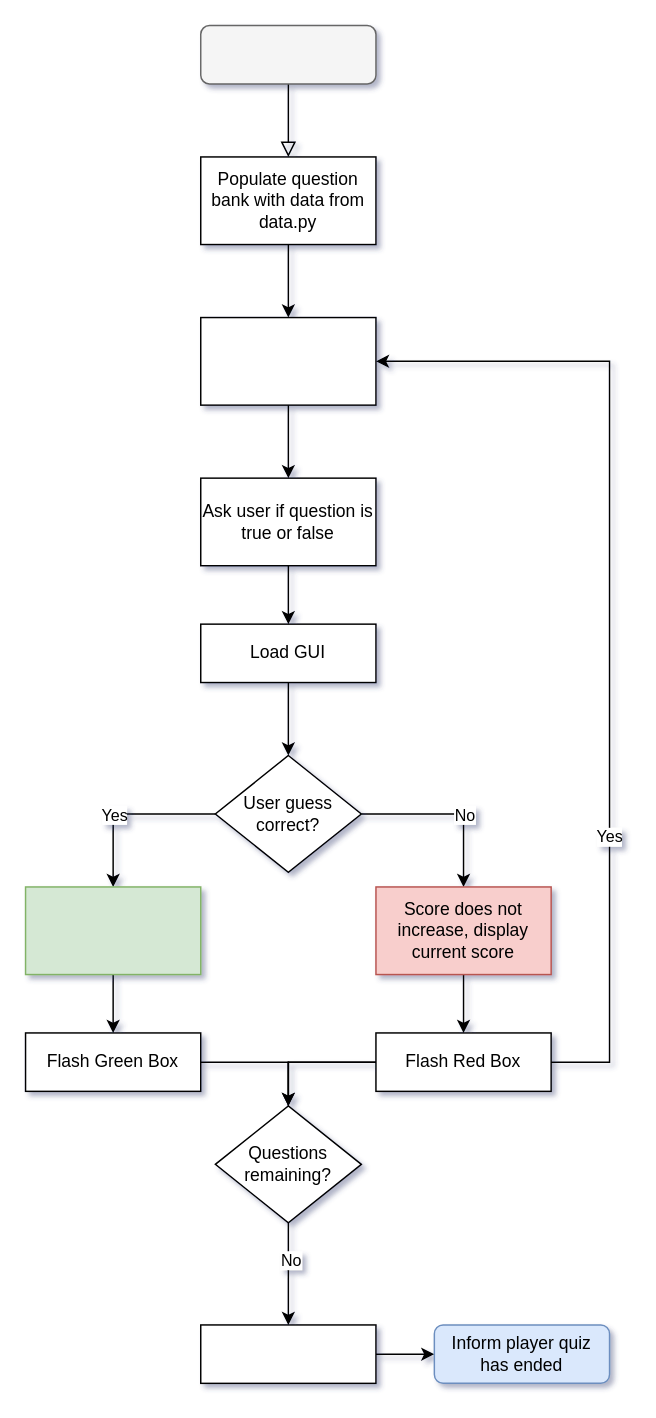
This 656x1418 diagram has some shape labels left out. The shapes that lost their labels are listed below. From the top down, each one's box as (x1, y1, x2, y2) in pixels, then its label:
(199, 24, 376, 84): Start Quiz
(199, 316, 376, 405): Load question into quiz
(24, 885, 201, 975): Increase score by 1 and display score.
(199, 1323, 376, 1383): Deactivate Buttons
